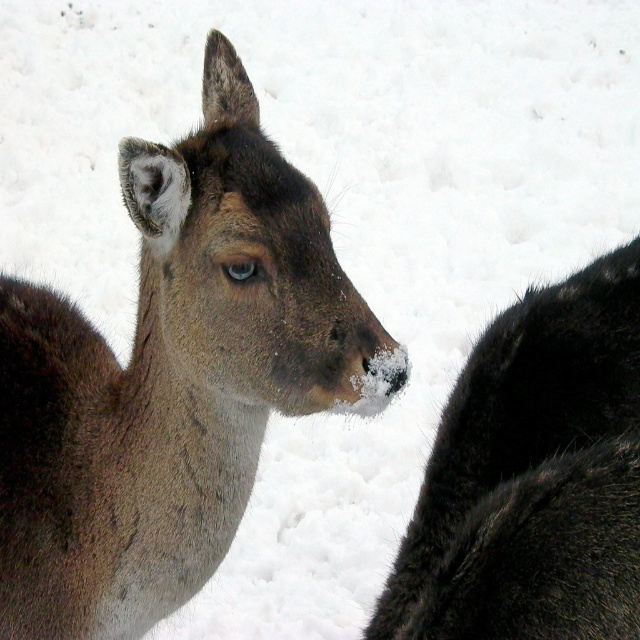Deer: (0, 29, 406, 639), (360, 231, 640, 639)
